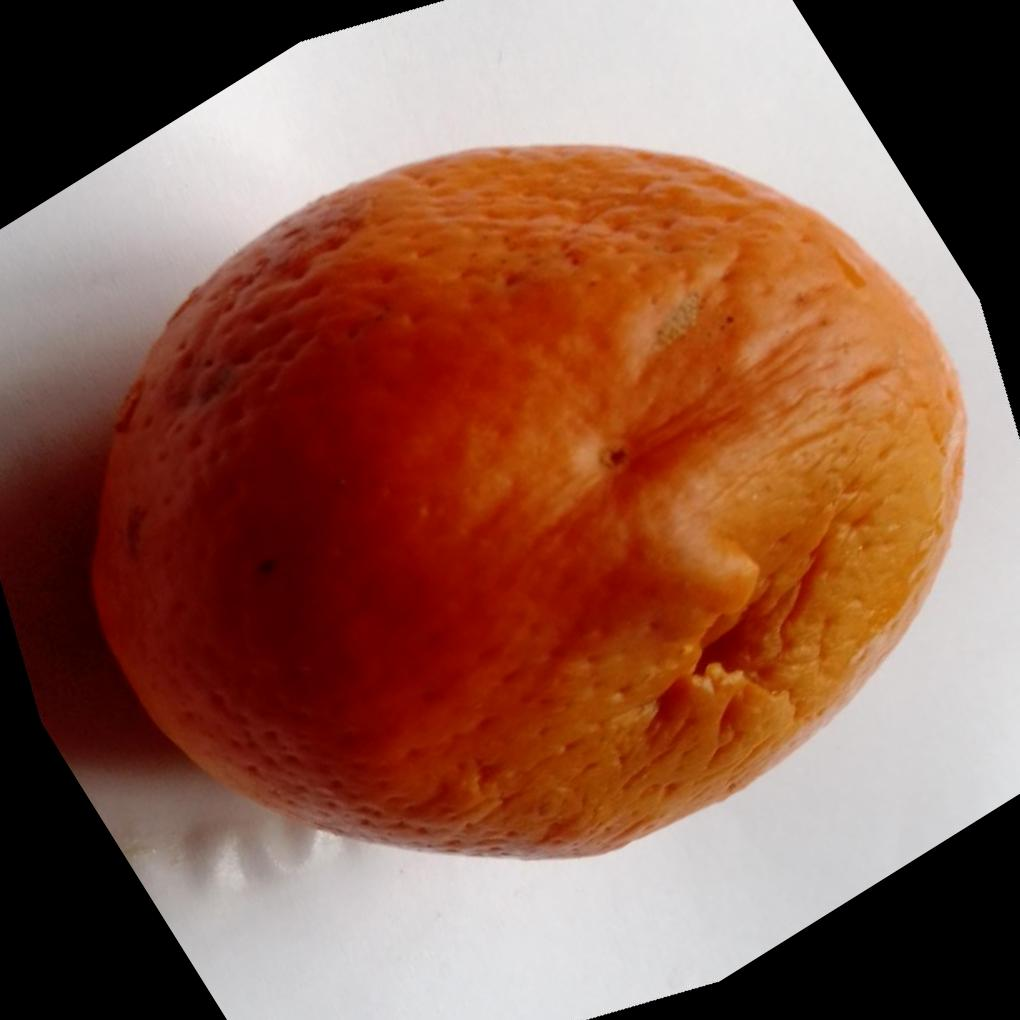FreshOrange: (89, 138, 973, 859)
